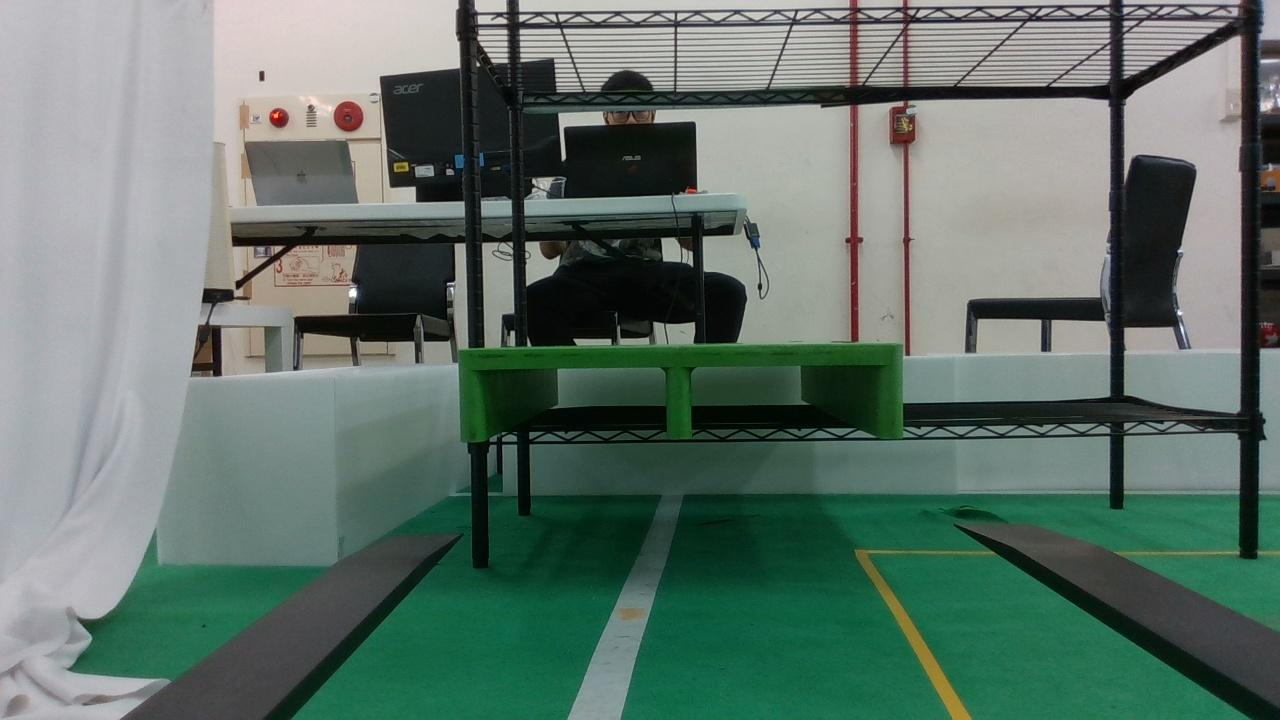Pallet: (457, 343, 906, 444)
